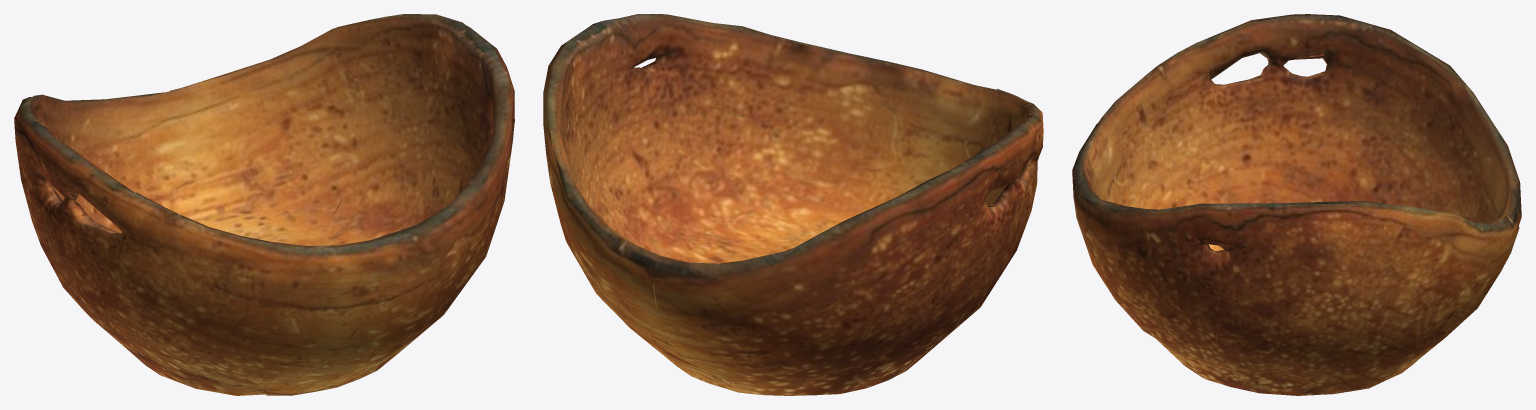
The model's file is bowl.glb.
3 renders of one model, left to right at view 1: azimuth 30°, elevation 25°; view 2: azimuth 150°, elevation 25°; view 3: azimuth 270°, elevation 25°, orthographic. The views are drawn at different scales.
Parts seen in each view (by area): view 1: wooden_bowl_02; view 2: wooden_bowl_02; view 3: wooden_bowl_02.
Boxes of the visible parts, x1=… form: wooden_bowl_02: x1=14, y1=14, x2=514, y2=395; wooden_bowl_02: x1=543, y1=14, x2=1043, y2=395; wooden_bowl_02: x1=1072, y1=14, x2=1521, y2=395.
Bounding box in the file's own units: 0.1309 × 0.0735 × 0.1245.
1 material, 1 textured.
